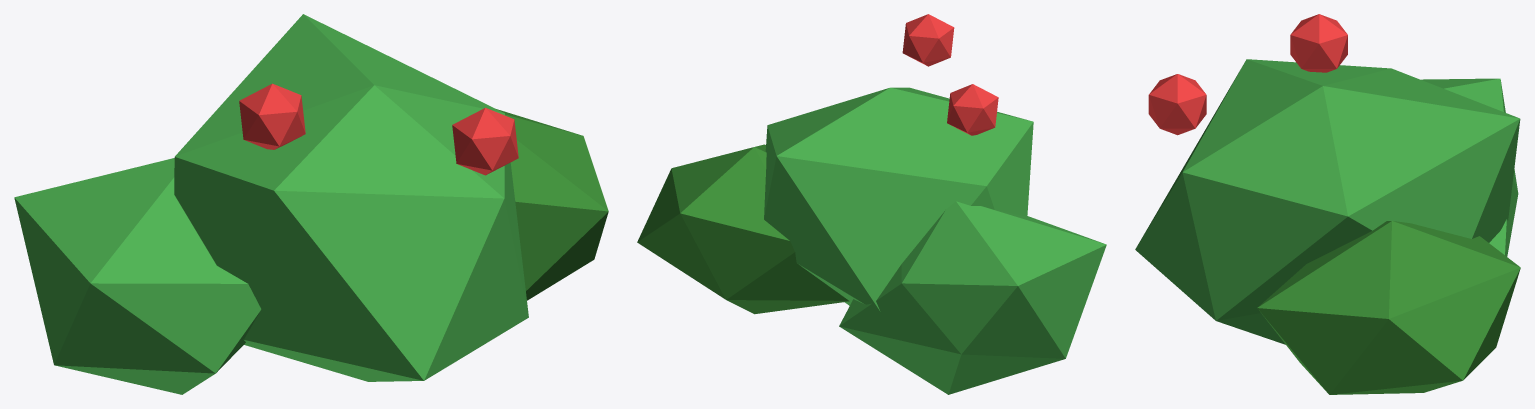
File: dc-bush-DAIVYKEb.glb
3 views of the same model, side by side, from view 1: azimuth 30°, elevation 25°; view 2: azimuth 150°, elevation 25°; view 3: azimuth 270°, elevation 25° (orthographic). The views are drawn at different scales.
Visible parts, largest first — view 1: Icosphere; view 2: Icosphere; view 3: Icosphere.
Boxes of the visible parts, x1,y1,x2,y2 form: Icosphere: (14,14,608,394); Icosphere: (637,14,1106,394); Icosphere: (1135,14,1520,394).
Size of the model in its own units: 0.1962 by 0.1234 by 0.1363.
